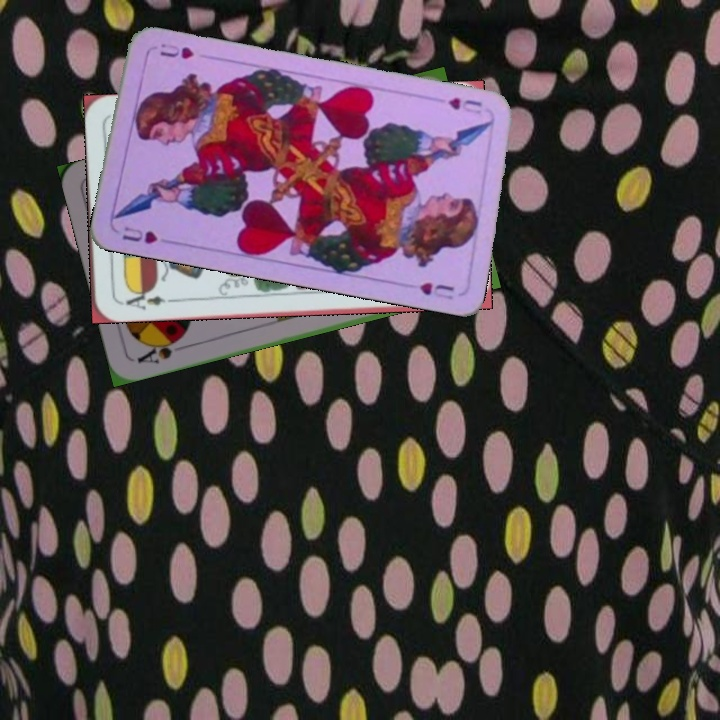EA: (116, 286, 175, 313)
HU: (118, 222, 160, 247), (444, 93, 485, 117)
SA: (133, 332, 187, 367)
